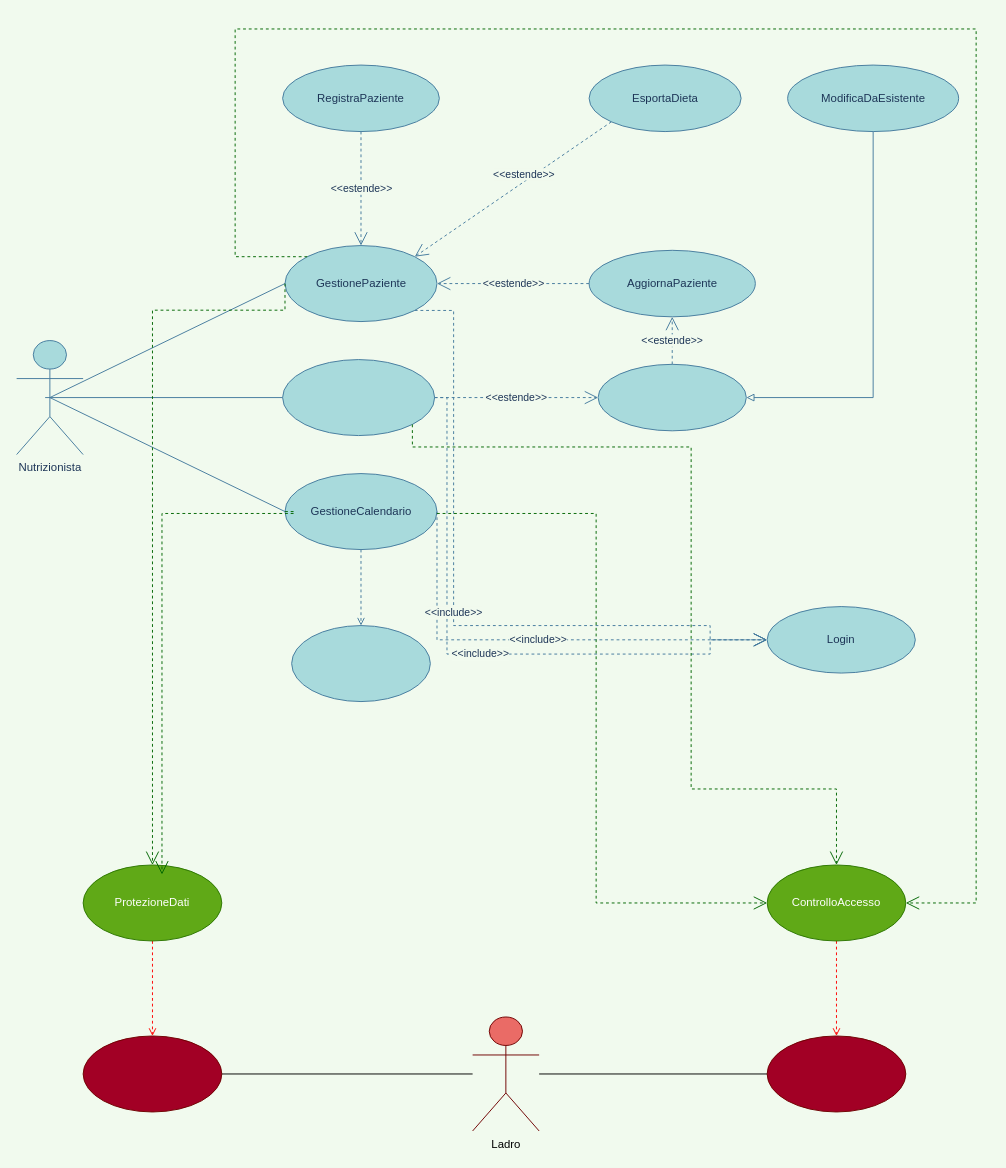
This 1006x1168 diagram has some shape labels left out. Here are the shapes that lost their labels. From the top down, the centre of each, then its label:
At [358,397]: "GestioneAlimenti".
At [671,397]: "CreaDieta".
At [360,663]: "AggiungiAppuntamento".
At [152,1073]: "FurtoDati".
At [836,1073]: "FurtoCredenziali".
